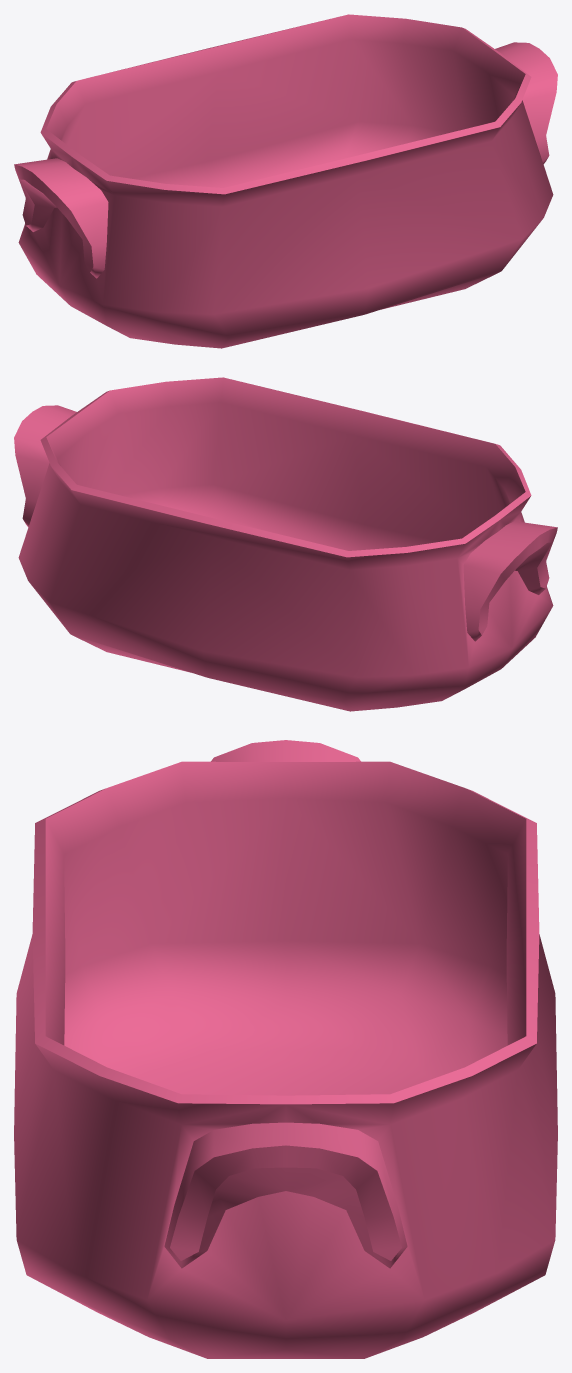
Rendered from Tableware_V6_3.fbx.
3 renders of one model, top to bottom at view 1: azimuth 30°, elevation 25°; view 2: azimuth 150°, elevation 25°; view 3: azimuth 270°, elevation 25°, orthographic. The views are drawn at different scales.
Visible parts, largest first — view 1: SM_Tableware_V6_3; view 2: SM_Tableware_V6_3; view 3: SM_Tableware_V6_3.
Boxes of the visible parts, <box> form: SM_Tableware_V6_3: <box>14,14,557,348</box>; SM_Tableware_V6_3: <box>14,377,557,711</box>; SM_Tableware_V6_3: <box>14,740,557,1358</box>.
Bounding box in the file's own units: 17.46 × 5.76 × 9.88.
